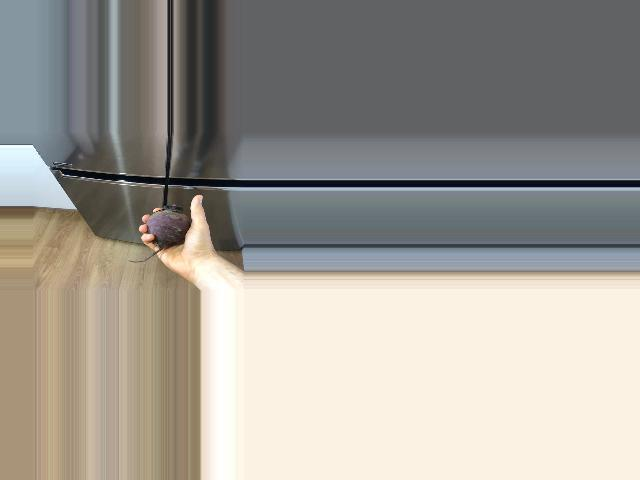beet: (127, 204, 190, 262)
